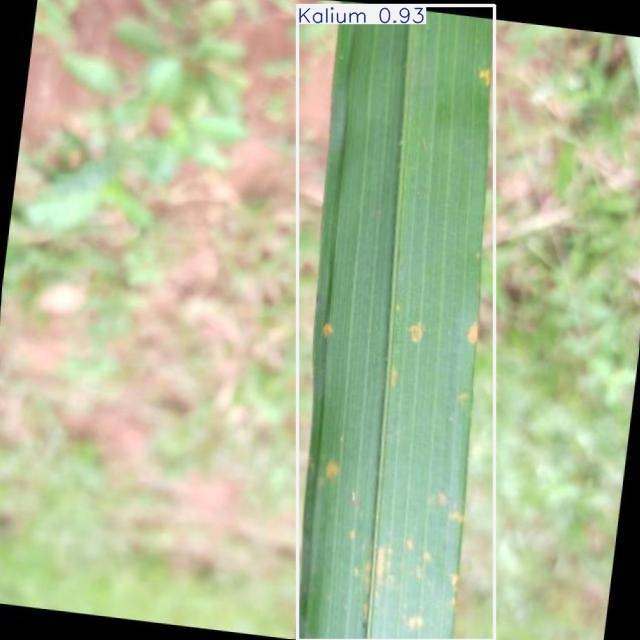Kalium: (298, 5, 494, 640)
